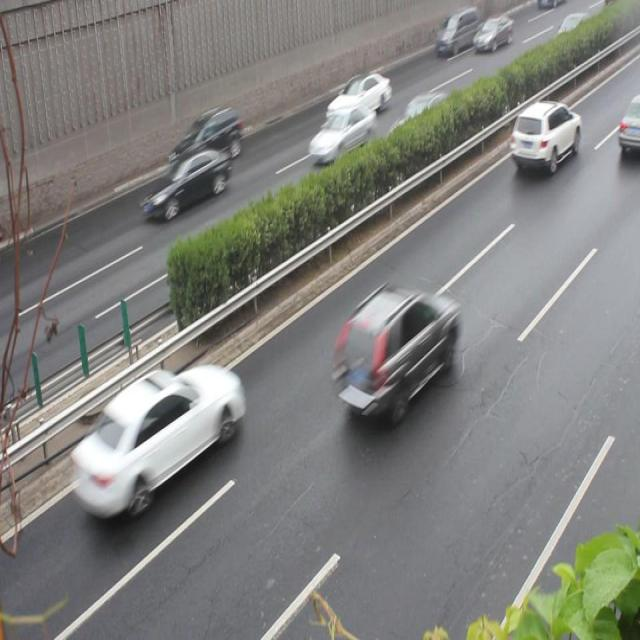car: (74, 361, 239, 517), (334, 283, 454, 416), (142, 148, 232, 221), (508, 98, 581, 170), (167, 102, 241, 168), (306, 106, 373, 164), (615, 89, 640, 152)
